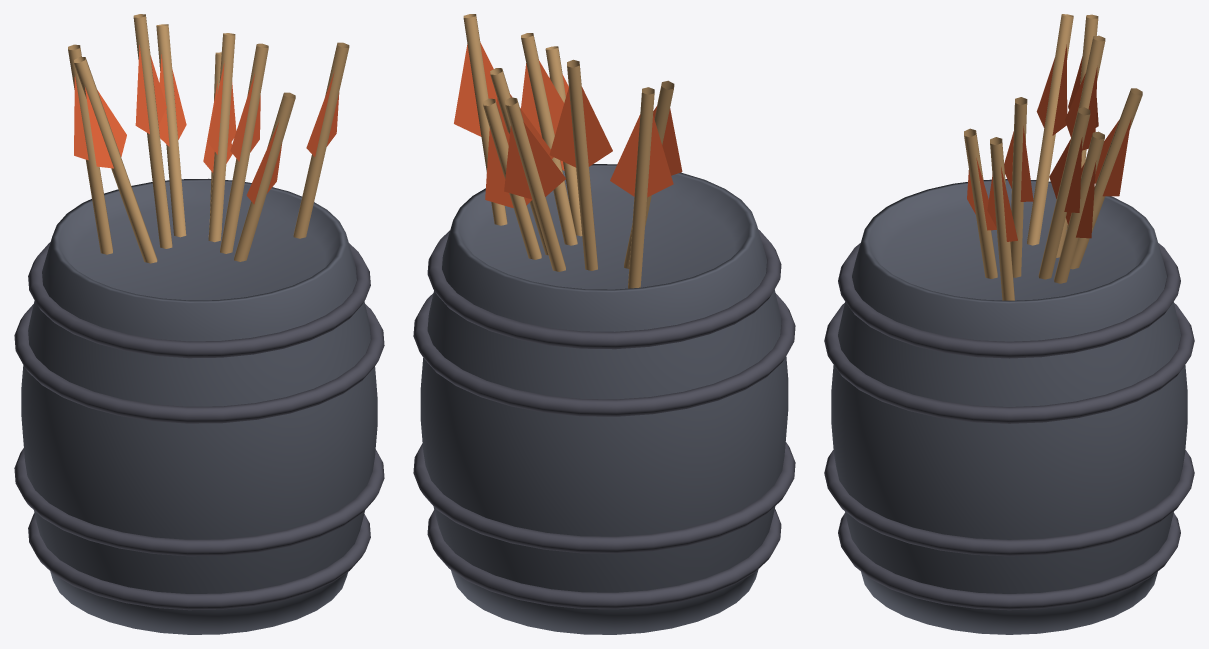
Rendered from ArrowBarrel.obj.
3 views of the same model, side by side, from view 1: azimuth 30°, elevation 25°; view 2: azimuth 150°, elevation 25°; view 3: azimuth 270°, elevation 25° (orthographic). The views are drawn at different scales.
Parts seen in each view (by area): view 1: Barrel, Hoops, Shafts, Feathers; view 2: Barrel, Hoops, Shafts, Feathers; view 3: Barrel, Hoops, Shafts, Feathers.
Part boxes in pixels (x1=…): Barrel: x1=21, y1=178, x2=377, y2=634; Hoops: x1=14, y1=242, x2=384, y2=610; Shafts: x1=68, y1=14, x2=349, y2=263; Feathers: x1=74, y1=45, x2=339, y2=204; Barrel: x1=420, y1=164, x2=788, y2=634; Hoops: x1=413, y1=229, x2=795, y2=609; Shafts: x1=463, y1=14, x2=674, y2=288; Feathers: x1=454, y1=42, x2=682, y2=208; Barrel: x1=831, y1=179, x2=1187, y2=634; Hoops: x1=824, y1=243, x2=1194, y2=610; Shafts: x1=964, y1=14, x2=1142, y2=300; Feathers: x1=967, y1=44, x2=1131, y2=241.
Bounding box in the file's own units: 2.64 × 4.14 × 2.64.
